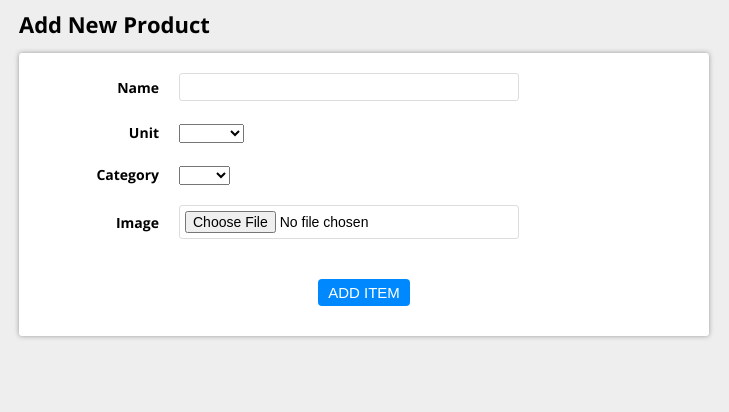
Add Product... › Show Error Message when Server responds problem
The width and height of the screenshot is (729, 412).
Type "New Product" into the field with test id "nameProductInput" at (349, 88), box [179,74,519,102]
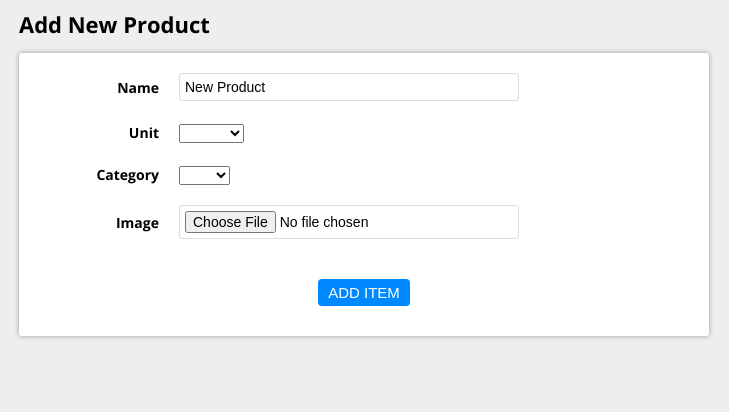
Select "Kg" in the dropdown labelled "Unit" at (212, 134), box [179,124,244,144]
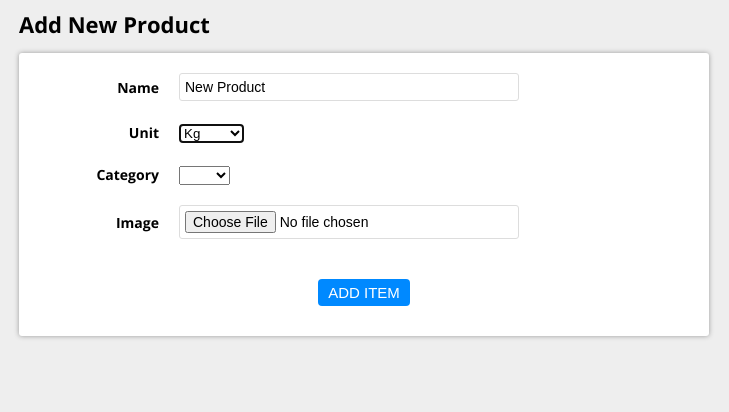
Select "Cat1" in the dropdown labelled "Category" at (204, 176), box [179,166,230,186]
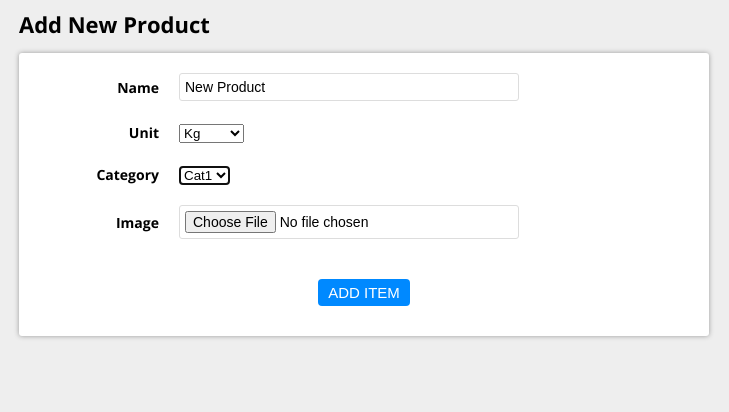
Click the button "ADD ITEM" at (364, 293), box [318,280,410,306]
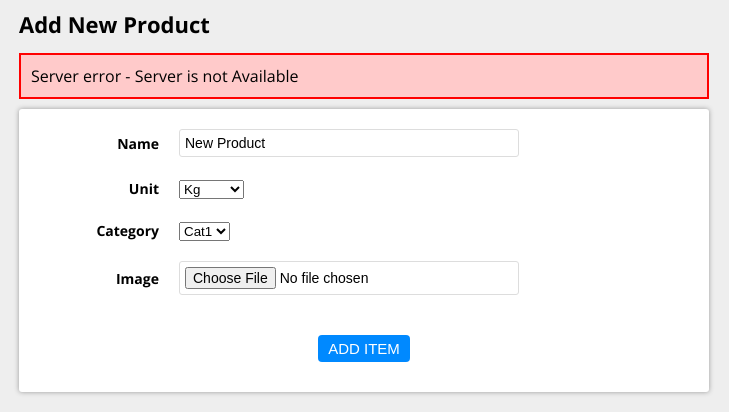
Expected: the text "Server is not Available" is shown, [31,66,298,88]
